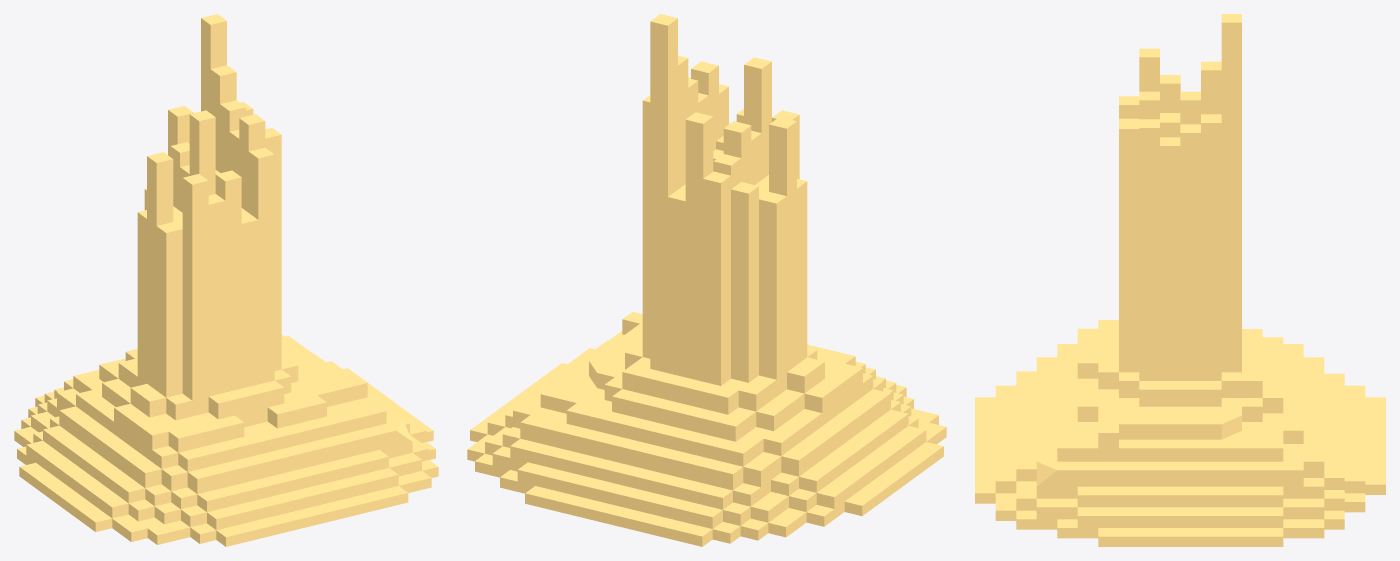
Rendered from DesertFormation.fbx.
The picture shows the model from 3 angles, left to right: view 1: azimuth 30°, elevation 25°; view 2: azimuth 150°, elevation 25°; view 3: azimuth 270°, elevation 25°; orthographic projection. The views are drawn at different scales.
Visible parts, largest first — view 1: Plane; view 2: Plane; view 3: Plane.
Part boxes in pixels (bbox=[...]): Plane: bbox=[14, 14, 438, 546]; Plane: bbox=[467, 14, 946, 546]; Plane: bbox=[975, 14, 1385, 546].
Bounding box in the file's own units: 5259 × 5990 × 5000.
